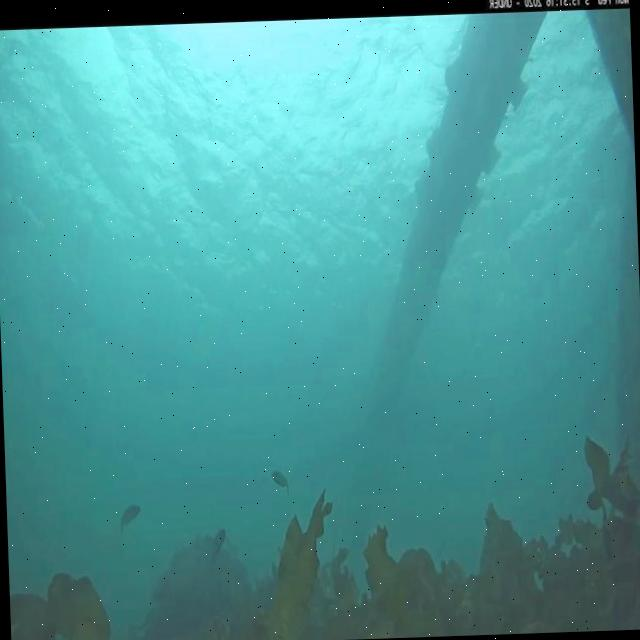fish: (118, 502, 141, 534), (210, 526, 227, 566), (272, 468, 290, 491)
